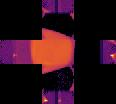earth: (31, 27, 75, 74)
